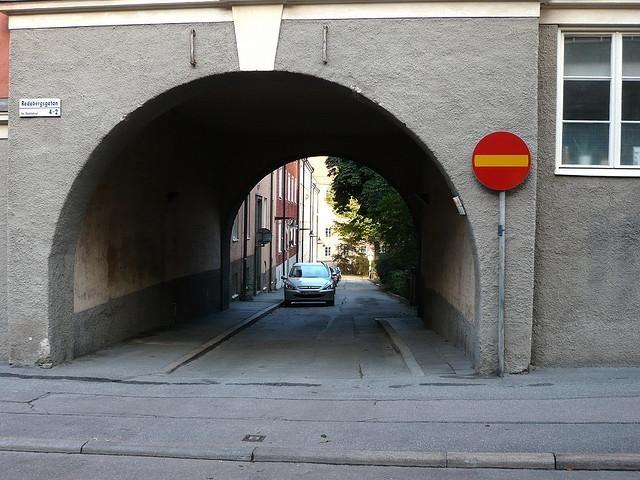car: (281, 262, 335, 307), (328, 266, 338, 287), (333, 266, 341, 282)
